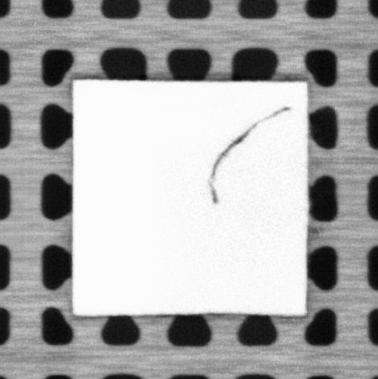DIE_INK: (207, 104, 292, 204)
